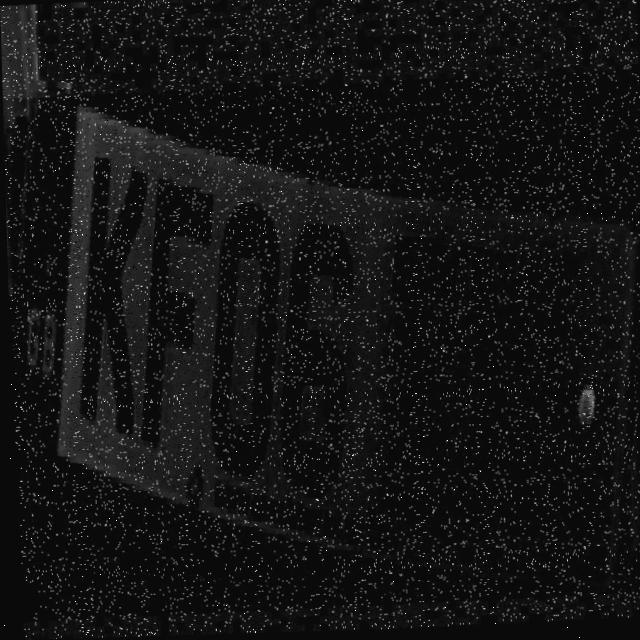LicensePlate: (2, 72, 640, 621)
